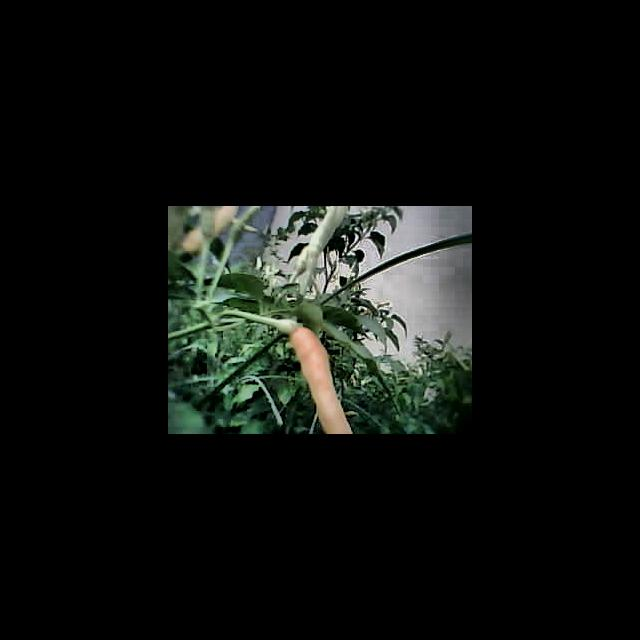Cabai: (294, 325, 351, 434), (173, 206, 238, 257)
